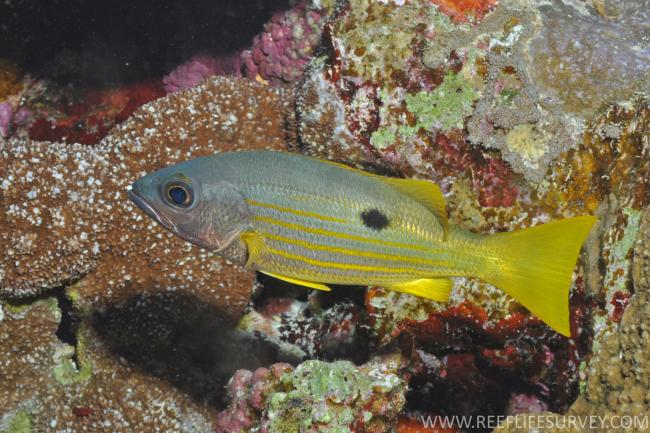fish: (128, 150, 594, 339)
